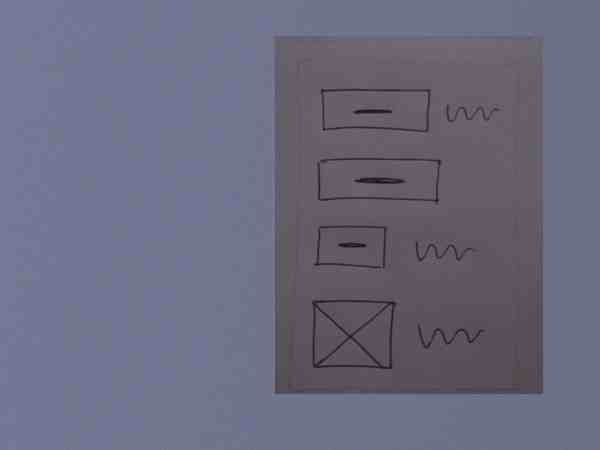button: (311, 156, 444, 210), (316, 84, 433, 139), (311, 223, 391, 273)
image: (307, 295, 399, 377)
text: (407, 237, 482, 270), (414, 321, 490, 353), (442, 99, 503, 129)
